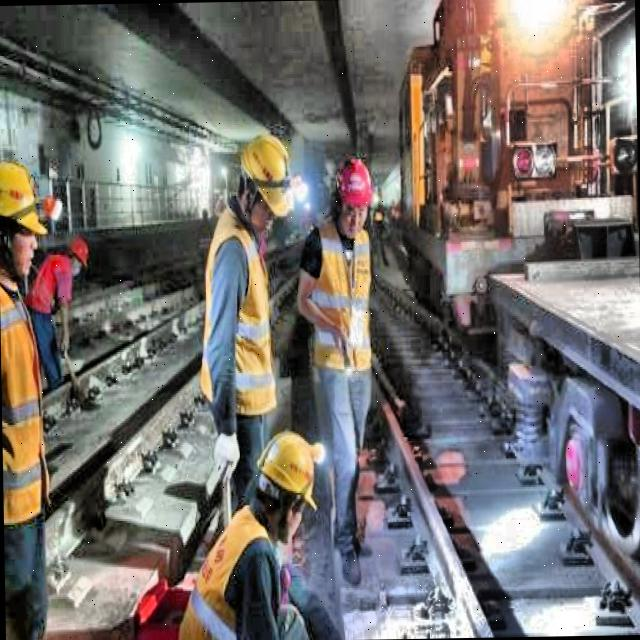helmet: (253, 432, 324, 543), (232, 129, 299, 236), (0, 154, 45, 282), (334, 155, 375, 238), (66, 229, 90, 273)
